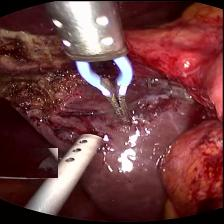Bipolar: (46, 12, 144, 126), (58, 131, 104, 178)
Specimen Bag: (26, 146, 58, 176)
